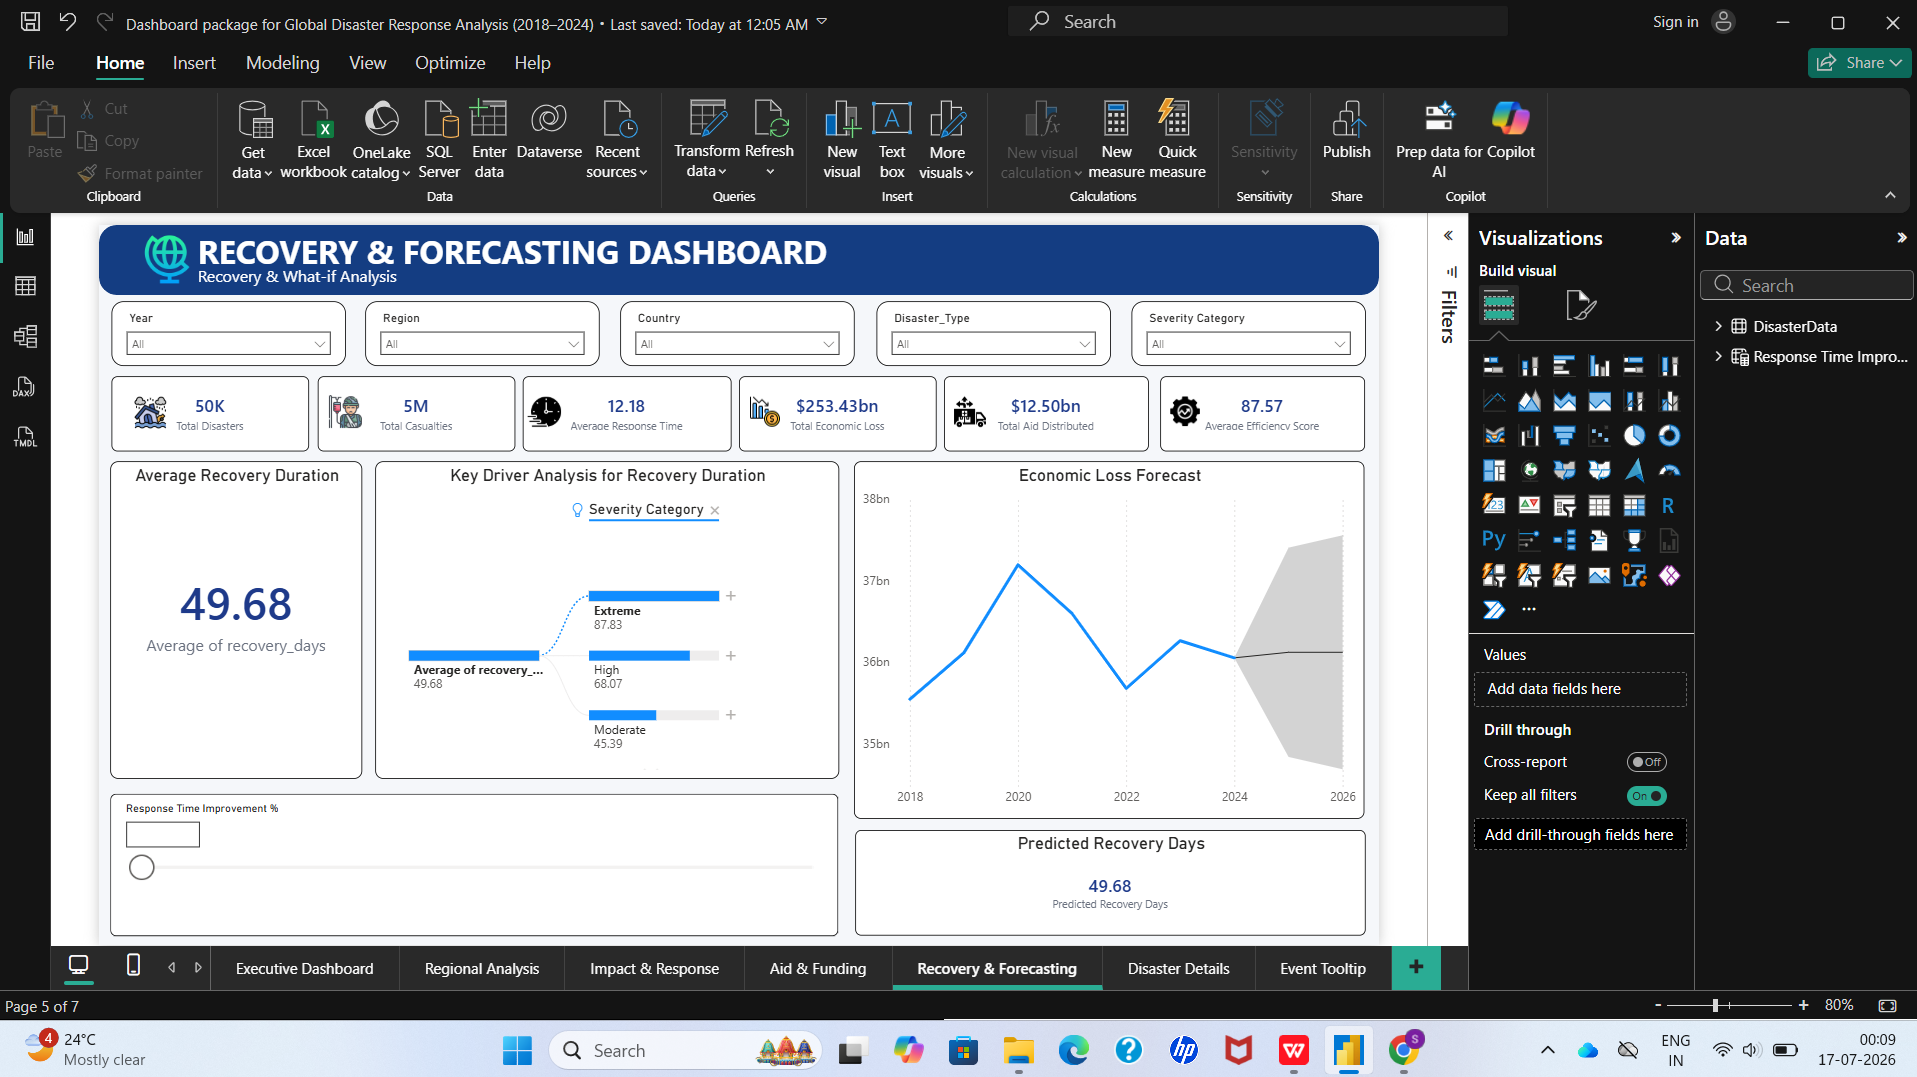

What the dashboard file says about the page in this screenshot:
{"tool":"powerbi","page":{"name":"Recovery & Forecasting","canvas":[1280,720],"ordinal":4},"visuals":[{"type":"cardVisual","title":"Average Recovery Duration","fields":{"Data":["Avg(DisasterData.recovery_days)"]},"box":[11.8,236.5,252.1,317.5],"z":0},{"type":"decompositionTreeVisual","title":"Key Driver Analysis for Recovery Duration","fields":{"Analyze":["Avg(DisasterData.recovery_days)"],"ExplainBy":["DisasterData.Severity Category","DisasterData.Disaster_Type","DisasterData.Region","DisasterData.response_time_hours"]},"box":[275.6,236.5,463.8,317.5],"z":1000},{"type":"lineChart","title":"Economic Loss Forecast","fields":{"Category":["DisasterData.date.Variation.Date Hierarchy.Year"],"Y":["Sum(DisasterData.economic_loss_usd)"]},"box":[755.1,236.5,510.8,358],"z":2000},{"type":"slicer","fields":{"Values":["Response Time Improvement %.Response Time Improvement %"]},"box":[11.8,568.3,727.7,142.4],"z":3000},{"type":"cardVisual","title":"Predicted Recovery Days","fields":{"Data":["DisasterData.Predicted Recovery Days"]},"box":[755.8,604.9,510.4,105.5],"z":4000},{"type":"shape","box":[0,0,1280,70],"z":5000},{"type":"image","box":[43.8,0,48.8,68.8],"z":6000},{"type":"textbox","box":[93.3,0,855.2,52.8],"z":7000},{"type":"textbox","box":[93.3,35.6,520.2,40.5],"z":8000},{"type":"slicer","fields":{"Values":["DisasterData.date.Variation.Date Hierarchy.Year"]},"box":[12.3,76.1,234.4,65],"z":9000},{"type":"slicer","fields":{"Values":["DisasterData.country"]},"box":[521.5,76.1,234.4,65],"z":10000},{"type":"slicer","fields":{"Values":["DisasterData.disaster_type"]},"box":[777.9,76.1,234.4,65],"z":11000},{"type":"slicer","fields":{"Values":["DisasterData.Region"]},"box":[266.3,76.1,234.4,65],"z":12000},{"type":"slicer","fields":{"Values":["DisasterData.Severity Category"]},"box":[1031.9,76.1,234.4,65],"z":13000},{"type":"cardVisual","fields":{"Data":["DisasterData.Total Disasters"]},"box":[12.3,150.9,197.5,74.8],"z":14000},{"type":"cardVisual","fields":{"Data":["DisasterData.Total Casualties"]},"box":[218.4,150.9,197.5,74.8],"z":15000},{"type":"cardVisual","fields":{"Data":["DisasterData.Total Aid Distributed"]},"box":[845.4,150.9,204.9,74.8],"z":16000},{"type":"cardVisual","fields":{"Data":["DisasterData.Average Response Time"]},"box":[423.3,150.9,208.6,74.8],"z":17000},{"type":"cardVisual","fields":{"Data":["DisasterData.Total Economic Loss"]},"box":[640.5,150.9,197.5,74.8],"z":18000},{"type":"cardVisual","fields":{"Data":["DisasterData.Average Efficiency Score"]},"box":[1061.4,150.9,204.9,74.8],"z":19000},{"type":"image","box":[35.6,169.3,33.1,38],"z":20000},{"type":"image","box":[228.2,168.1,35.6,38],"z":21000},{"type":"image","box":[423.3,168.1,42.9,38],"z":22000},{"type":"image","box":[650.3,168.1,31.9,38],"z":23000},{"type":"image","box":[855.2,168.1,31.9,38],"z":24000},{"type":"image","box":[1071.2,168.1,29.4,38],"z":25000}]}

Visuals, with their boxes on the page's 1280x720 design canvas (x1, y1, x2, y2). These are canvas units, not pixel positions in the 1917x1077 screenshot, which may show the page scaled, cropped or inside an application window:
"Average Recovery Duration" cardVisual: detection(12, 236, 264, 554)
"Key Driver Analysis for Recovery Duration" decompositionTreeVisual: detection(276, 236, 739, 554)
"Economic Loss Forecast" lineChart: detection(755, 236, 1266, 594)
slicer - Response Time Improvement %.Response Time Improvement %: detection(12, 568, 740, 711)
"Predicted Recovery Days" cardVisual: detection(756, 605, 1266, 710)
shape: detection(0, 0, 1280, 70)
image: detection(44, 0, 93, 69)
textbox: detection(93, 0, 948, 53)
textbox: detection(93, 36, 614, 76)
slicer - DisasterData.date.Variation.Date Hierarchy.Year: detection(12, 76, 247, 141)
slicer - DisasterData.country: detection(522, 76, 756, 141)
slicer - DisasterData.disaster_type: detection(778, 76, 1012, 141)
slicer - DisasterData.Region: detection(266, 76, 501, 141)
slicer - DisasterData.Severity Category: detection(1032, 76, 1266, 141)
cardVisual - DisasterData.Total Disasters: detection(12, 151, 210, 226)
cardVisual - DisasterData.Total Casualties: detection(218, 151, 416, 226)
cardVisual - DisasterData.Total Aid Distributed: detection(845, 151, 1050, 226)
cardVisual - DisasterData.Average Response Time: detection(423, 151, 632, 226)
cardVisual - DisasterData.Total Economic Loss: detection(640, 151, 838, 226)
cardVisual - DisasterData.Average Efficiency Score: detection(1061, 151, 1266, 226)
image: detection(36, 169, 69, 207)
image: detection(228, 168, 264, 206)
image: detection(423, 168, 466, 206)
image: detection(650, 168, 682, 206)
image: detection(855, 168, 887, 206)
image: detection(1071, 168, 1101, 206)
